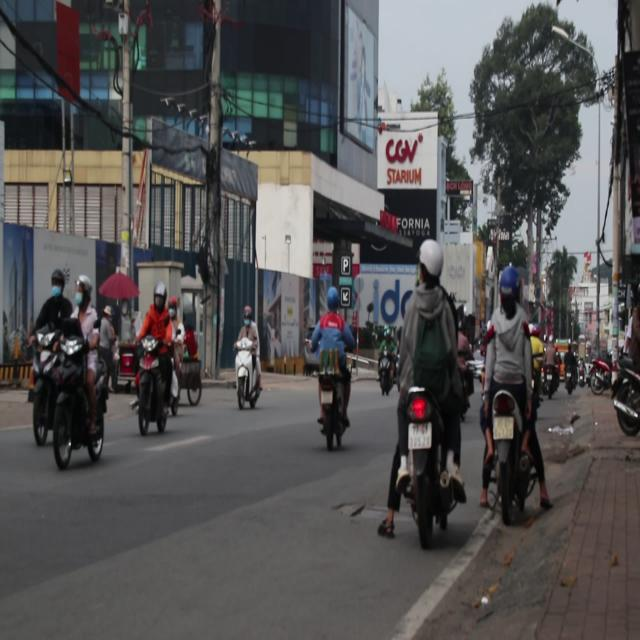motorbike: (402, 379, 462, 545), (489, 383, 543, 525), (57, 334, 108, 471), (315, 356, 353, 452), (31, 323, 59, 446), (611, 352, 640, 438), (234, 338, 264, 410), (180, 335, 204, 408), (589, 355, 614, 395), (379, 351, 394, 397)
